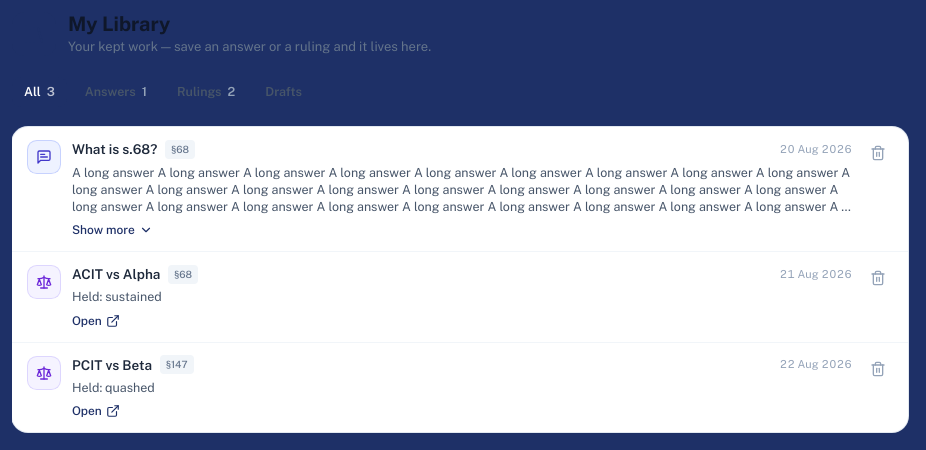
Test case: Library page › filters to a single kind when a tab is clicked
This screenshot has width=926, height=450.
Check: the text "What is s.68?" is shown, box [72,139,157,160]
Click the button "Answers1": (116, 92) [73,76,159,107]
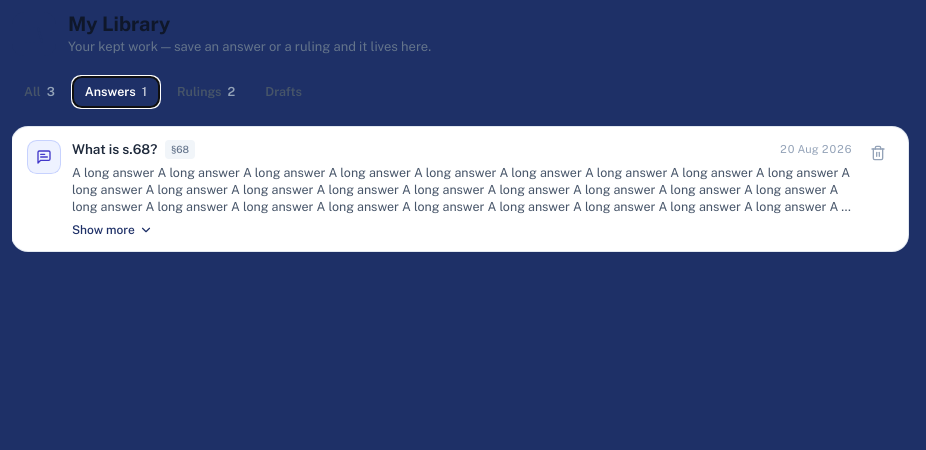
Check: the text "What is s.68?" is shown, box [72,139,157,160]
Check: the text "ACIT vs Alpha" is gone
Check: the text "PCIT vs Beta" is gone
